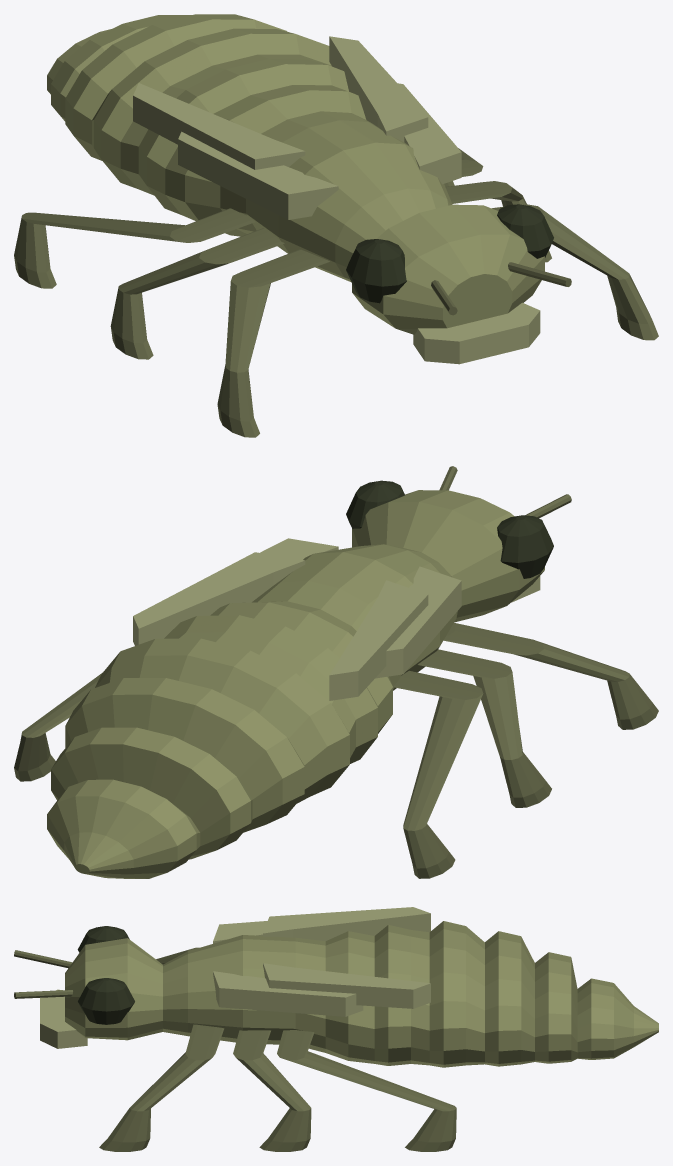
3 renders of one model, top to bottom at view 1: azimuth 30°, elevation 25°; view 2: azimuth 150°, elevation 25°; view 3: azimuth 270°, elevation 25°, orthographic. The views are drawn at different scales.
Parts seen in each view (by area): view 1: WholeBroadHeadThoraxAndSegmentShoulderedAbdomen, WholeAngularNymphLegAndSole0_0, WholeShortSweptWingpad0_1, WholeAngularNymphLegAndSole0_2, WholeShortSweptWingpad0_0, WholeAngularNymphLegAndSole0_1, WholeShortSweptWingpad1_1, WholeFoldedUnderLabialMask, WholeAngularNymphLegAndSole1_0, WholeLargeLateralNymphEye0, WholeShortSweptWingpad1_0, WholeLargeLateralNymphEye1 (+2 smaller); view 2: WholeBroadHeadThoraxAndSegmentShoulderedAbdomen, WholeAngularNymphLegAndSole0_2, WholeAngularNymphLegAndSole0_1, WholeShortSweptWingpad1_1, WholeShortSweptWingpad0_1, WholeAngularNymphLegAndSole0_0, WholeShortSweptWingpad0_0, WholeAngularNymphLegAndSole1_2, WholeLargeLateralNymphEye0, WholeLargeLateralNymphEye1, WholeShortSweptWingpad1_0; view 3: WholeBroadHeadThoraxAndSegmentShoulderedAbdomen, WholeAngularNymphLegAndSole1_2, WholeShortSweptWingpad1_1, WholeAngularNymphLegAndSole1_0, WholeShortSweptWingpad1_0, WholeAngularNymphLegAndSole1_1, WholeShortSweptWingpad0_1, WholeLargeLateralNymphEye1, WholeFoldedUnderLabialMask, WholeShortSweptWingpad0_0, WholeLargeLateralNymphEye0, WholeShortNymphAntenna0 (+1 smaller).
Boxes of the visible parts, box(x1,y1,x2,y2) form: WholeBroadHeadThoraxAndSegmentShoulderedAbdomen: box(47, 14, 544, 334); WholeAngularNymphLegAndSole0_0: box(217, 249, 329, 437); WholeShortSweptWingpad0_1: box(133, 83, 305, 169); WholeAngularNymphLegAndSole0_2: box(14, 208, 254, 288); WholeShortSweptWingpad0_0: box(178, 131, 338, 219); WholeAngularNymphLegAndSole0_1: box(110, 228, 284, 359); WholeShortSweptWingpad1_1: box(329, 36, 428, 141); WholeFoldedUnderLabialMask: box(413, 302, 540, 364); WholeAngularNymphLegAndSole1_0: box(492, 204, 658, 340); WholeLargeLateralNymphEye0: box(346, 239, 406, 303); WholeShortSweptWingpad1_0: box(398, 83, 461, 184); WholeLargeLateralNymphEye1: box(497, 204, 553, 258); WholeBroadHeadThoraxAndSegmentShoulderedAbdomen: box(47, 490, 544, 878); WholeAngularNymphLegAndSole0_2: box(393, 670, 483, 878); WholeAngularNymphLegAndSole0_1: box(418, 649, 551, 807); WholeShortSweptWingpad1_1: box(133, 552, 305, 645); WholeShortSweptWingpad0_1: box(329, 580, 428, 700); WholeAngularNymphLegAndSole0_0: box(443, 623, 658, 729); WholeShortSweptWingpad0_0: box(375, 566, 461, 678); WholeAngularNymphLegAndSole1_2: box(14, 672, 102, 781); WholeLargeLateralNymphEye0: box(497, 515, 553, 578); WholeLargeLateralNymphEye1: box(346, 480, 404, 528); WholeShortSweptWingpad1_0: box(260, 538, 338, 559); WholeBroadHeadThoraxAndSegmentShoulderedAbdomen: box(65, 921, 658, 1067); WholeAngularNymphLegAndSole1_2: box(277, 1030, 456, 1151); WholeShortSweptWingpad1_1: box(263, 963, 430, 1008); WholeAngularNymphLegAndSole1_0: box(99, 1024, 224, 1151); WholeShortSweptWingpad1_0: box(213, 971, 363, 1016); WholeAngularNymphLegAndSole1_1: box(233, 1030, 311, 1151); WholeShortSweptWingpad0_1: box(263, 907, 430, 941); WholeLargeLateralNymphEye1: box(78, 978, 134, 1024); WholeFoldedUnderLabialMask: box(40, 989, 87, 1048); WholeShortSweptWingpad0_0: box(213, 921, 267, 943); WholeLargeLateralNymphEye0: box(77, 926, 129, 952); WholeShortNymphAntenna0: box(14, 950, 72, 968).
Size of the model in its own units: 1.47 by 0.6 by 2.57.
